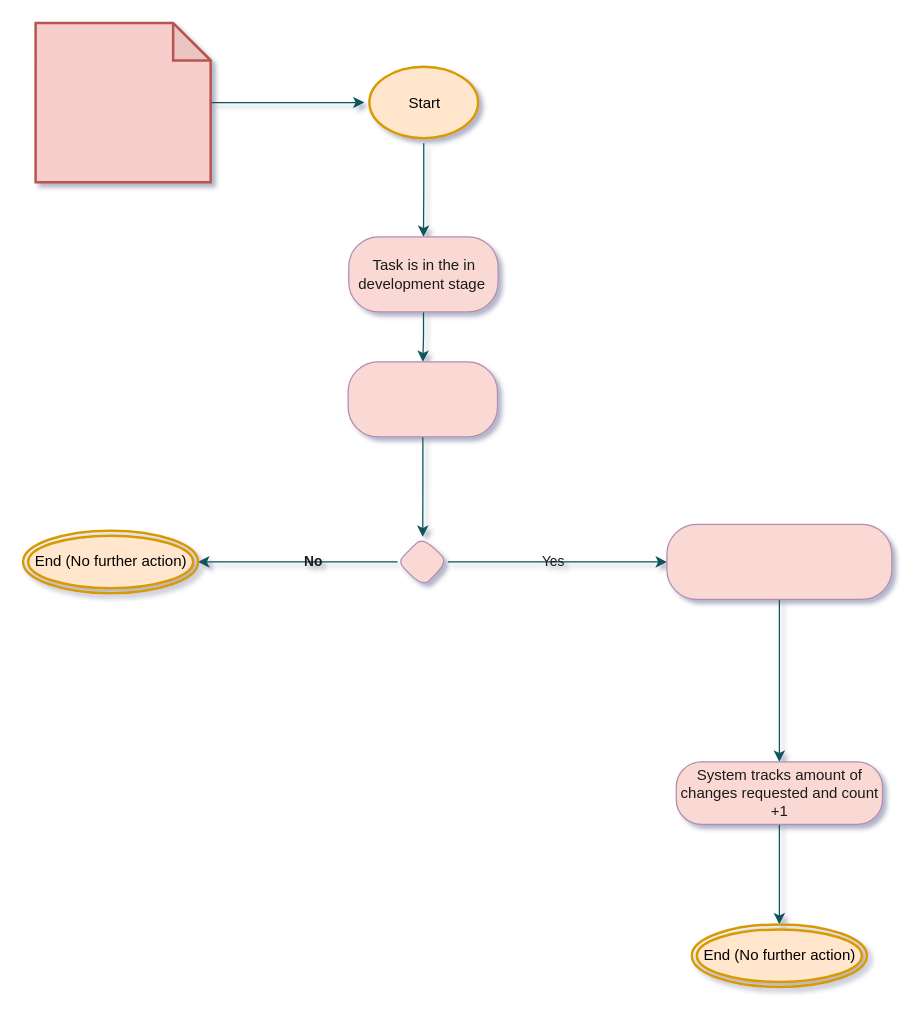
Image size: 921x1018. Some labels were removed from this diagram. The centre of each missing label's shape, as x and y in pixels:
"Changes has been requested on task or is on changes requested state" belongs at point (422, 399).
"Task is moves automatically to the changes requested column" belongs at point (779, 561).
"Task is ready for development" belongs at point (122, 102).
